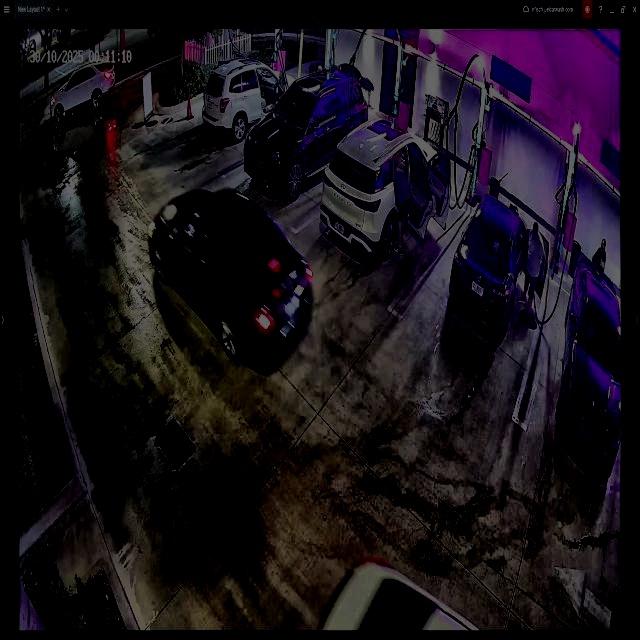Car: (149, 188, 313, 365), (320, 114, 451, 265), (247, 62, 372, 193), (445, 198, 545, 340)
